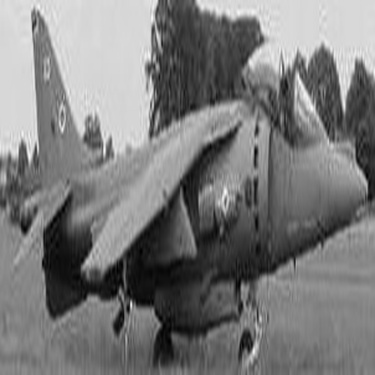airplane: (3, 8, 372, 369)
